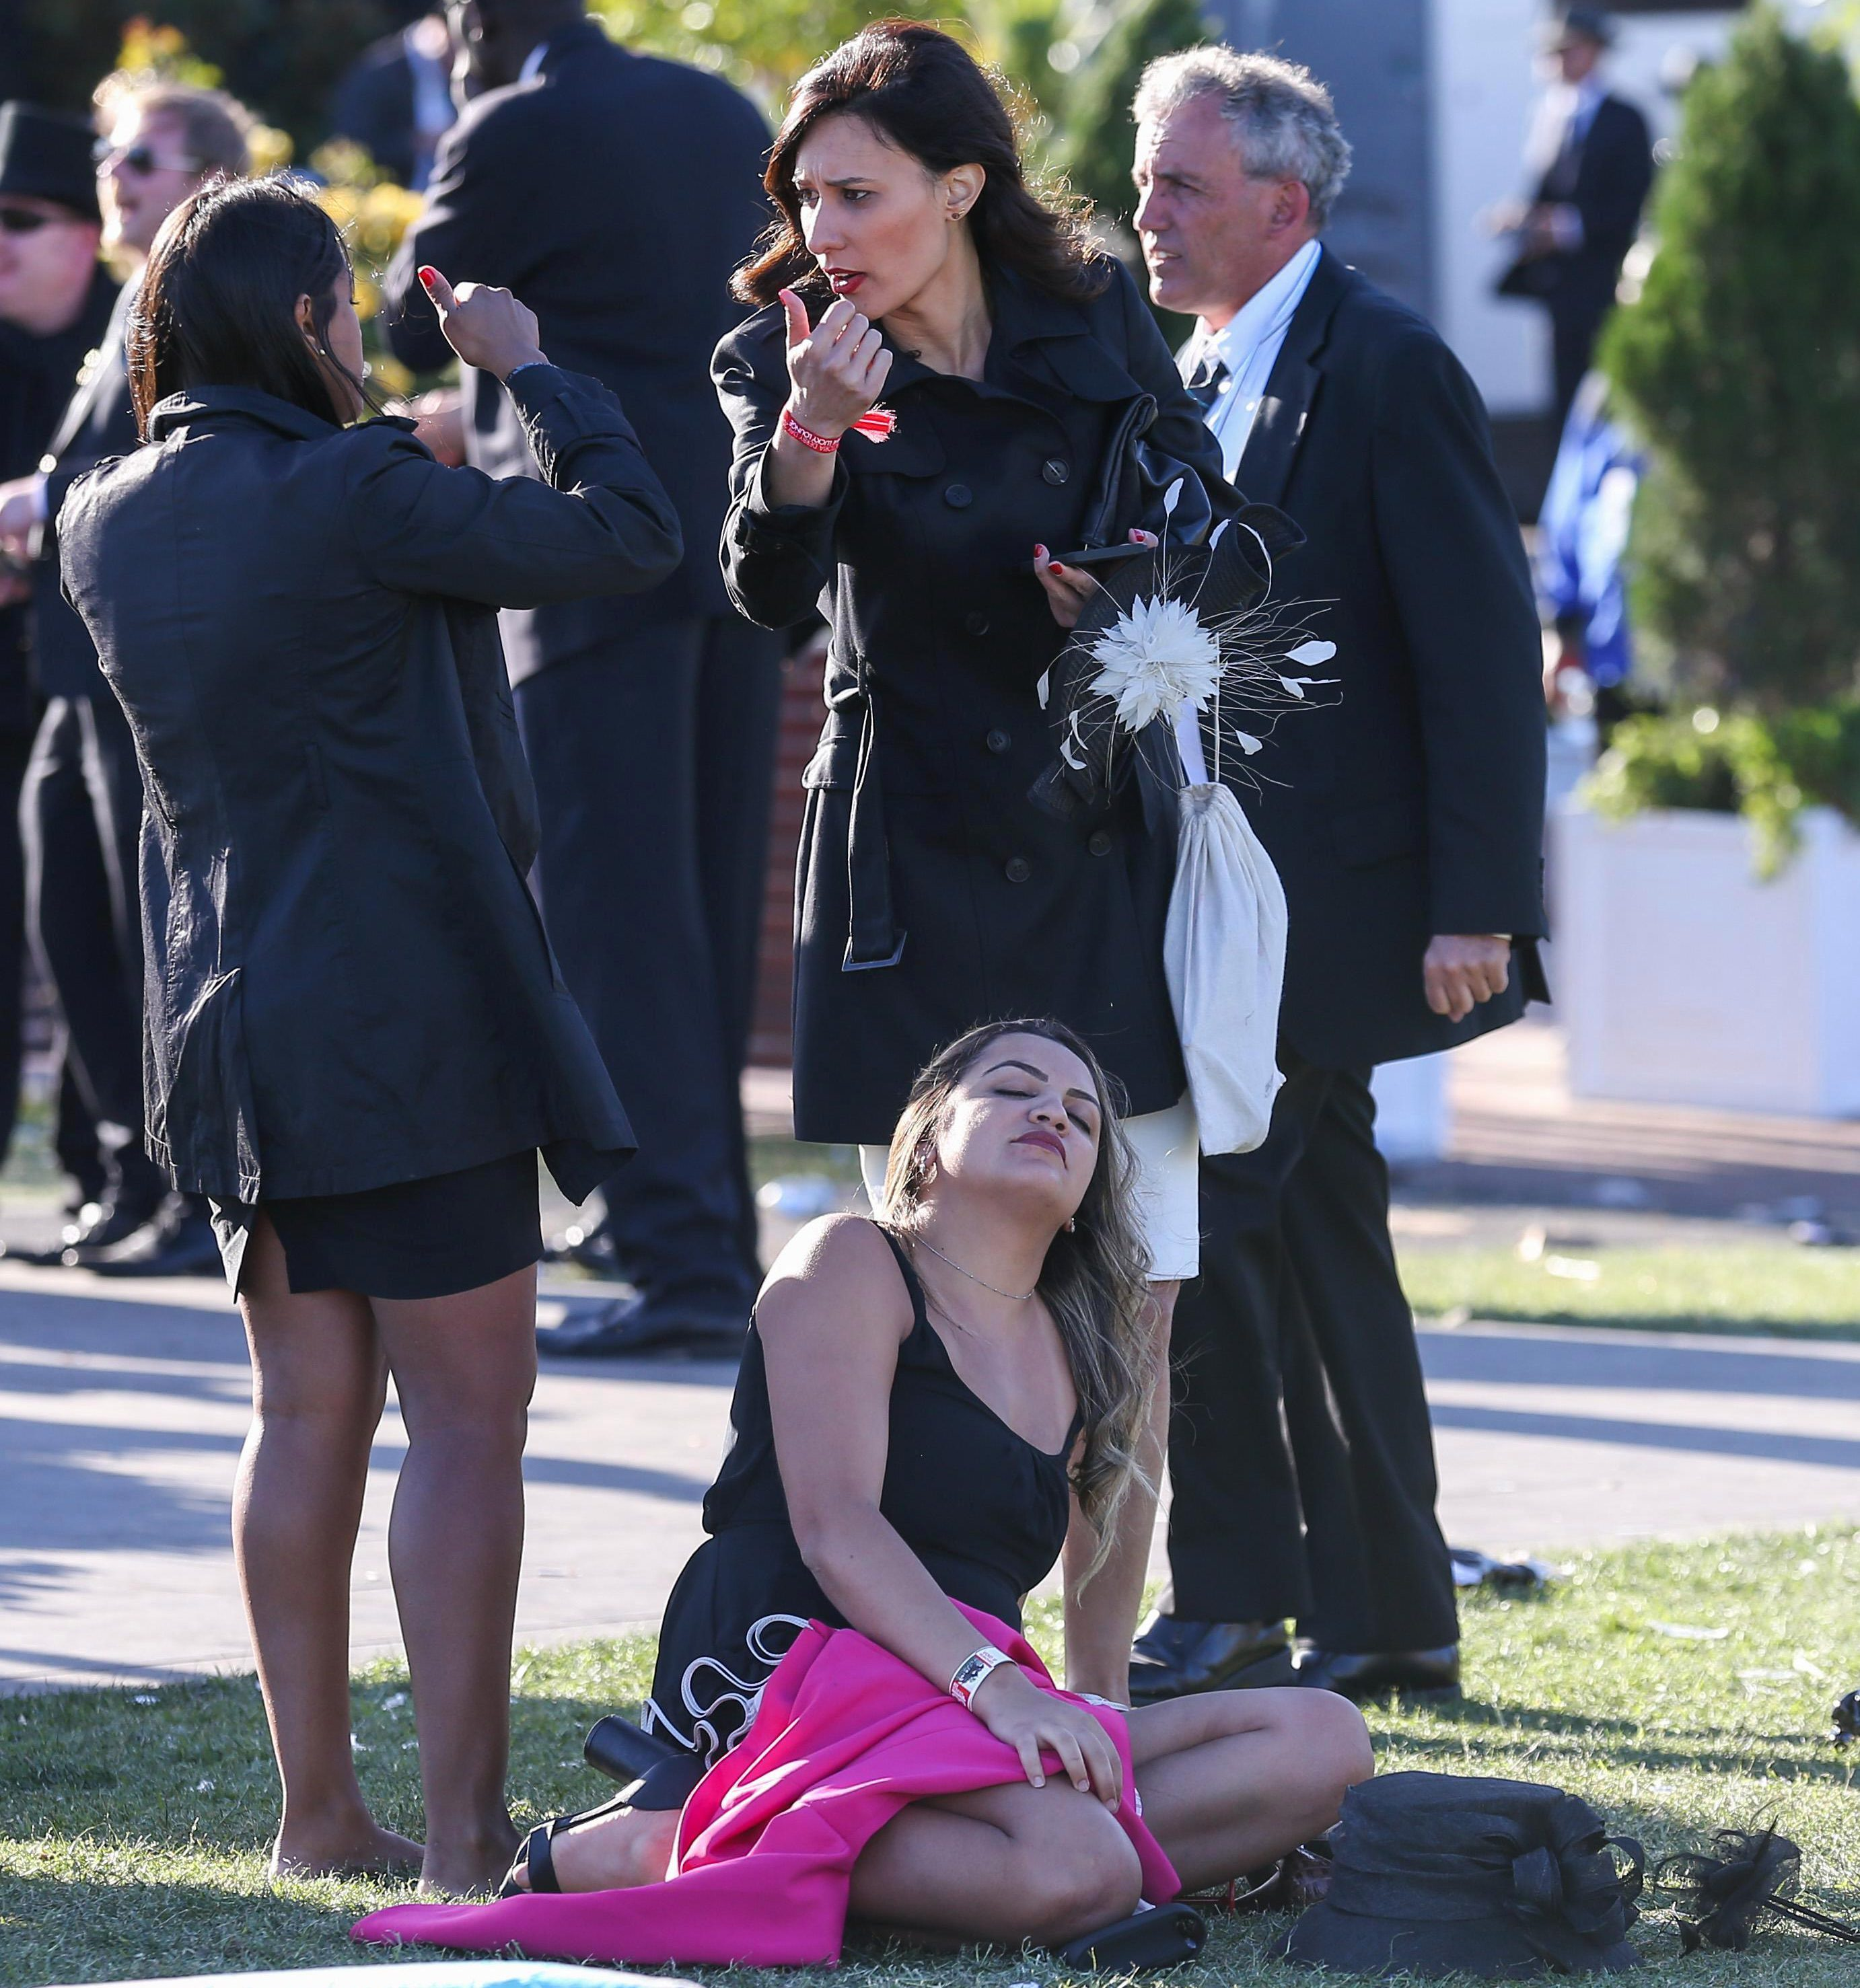Person: (57, 172, 680, 1572), (528, 1014, 1377, 1927), (1132, 40, 1562, 1003), (713, 18, 1136, 953)
